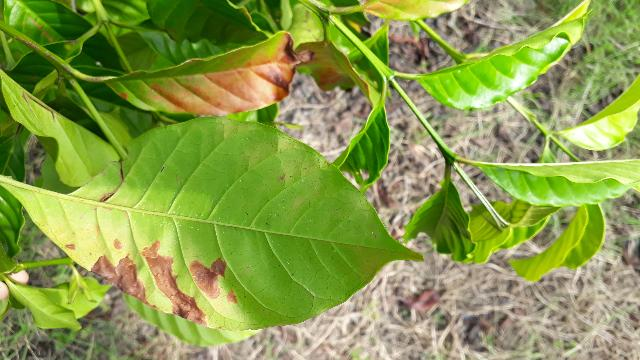red_spider_mite: (3, 114, 434, 336)
